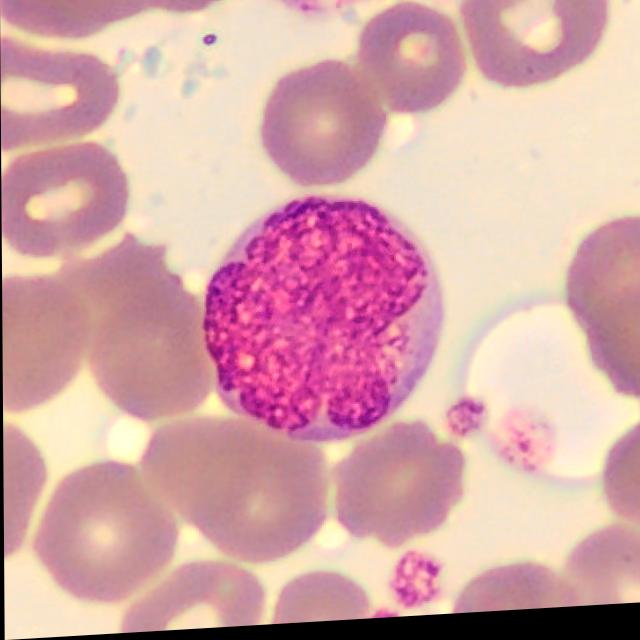Monocito: (201, 201, 447, 448)
